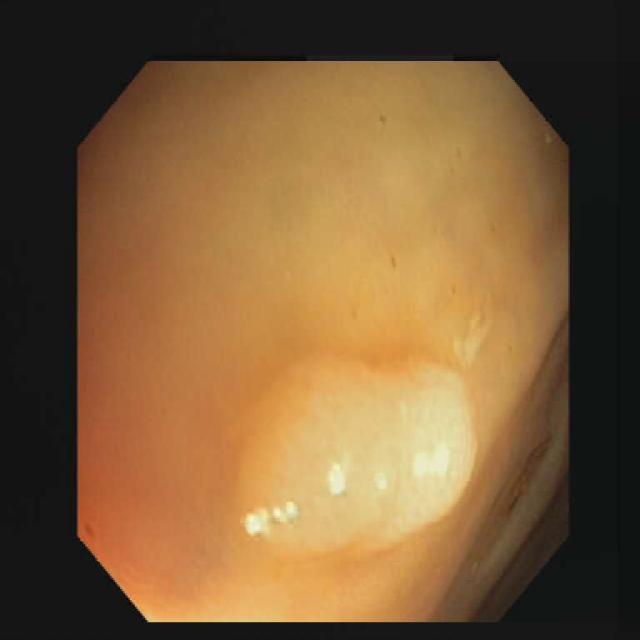tumor: (245, 371, 475, 551)
